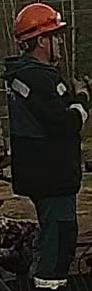gloves: (75, 77, 92, 109)
helmet: (12, 2, 67, 42)
vest: (2, 54, 82, 198)
